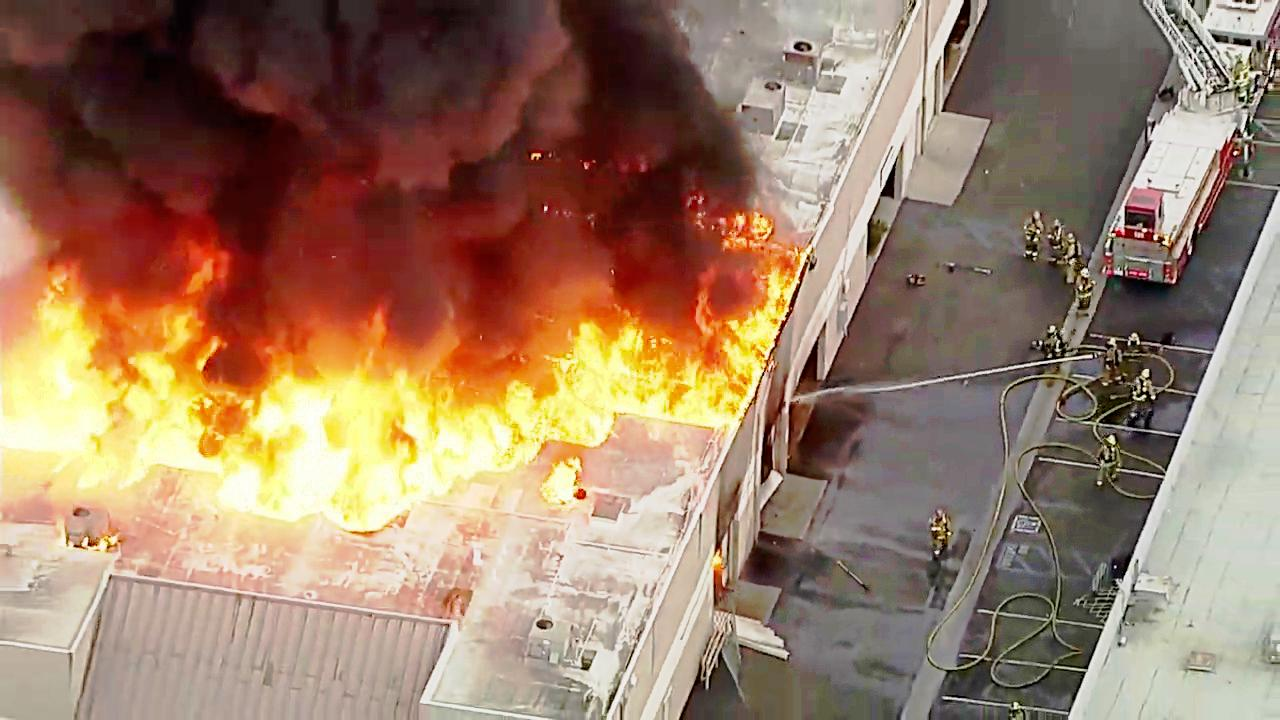fire: (4, 267, 138, 476), (647, 260, 792, 434), (129, 255, 234, 480), (229, 390, 404, 508), (522, 329, 645, 450), (409, 405, 522, 484)
smoke: (0, 8, 760, 197), (194, 0, 570, 197)
